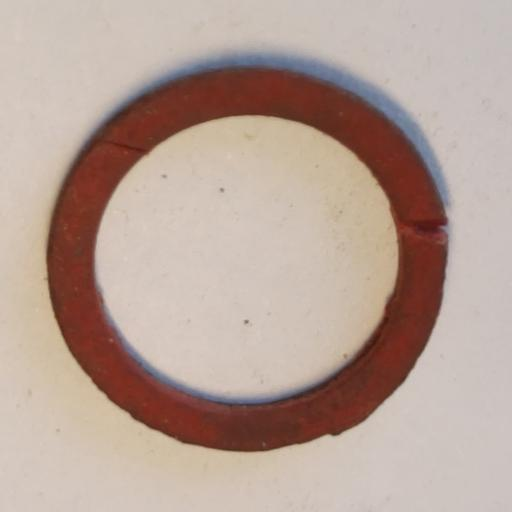defect: (395, 211, 451, 249), (96, 137, 145, 154)
